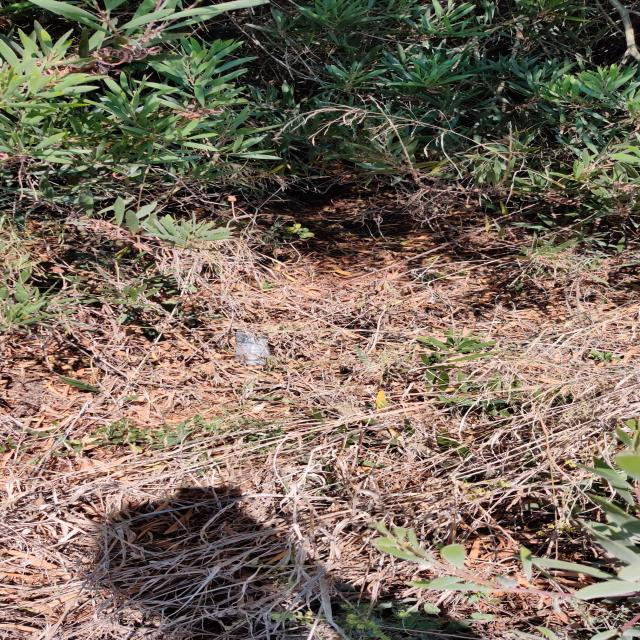Clear plastic bottle: (235, 331, 271, 365)
